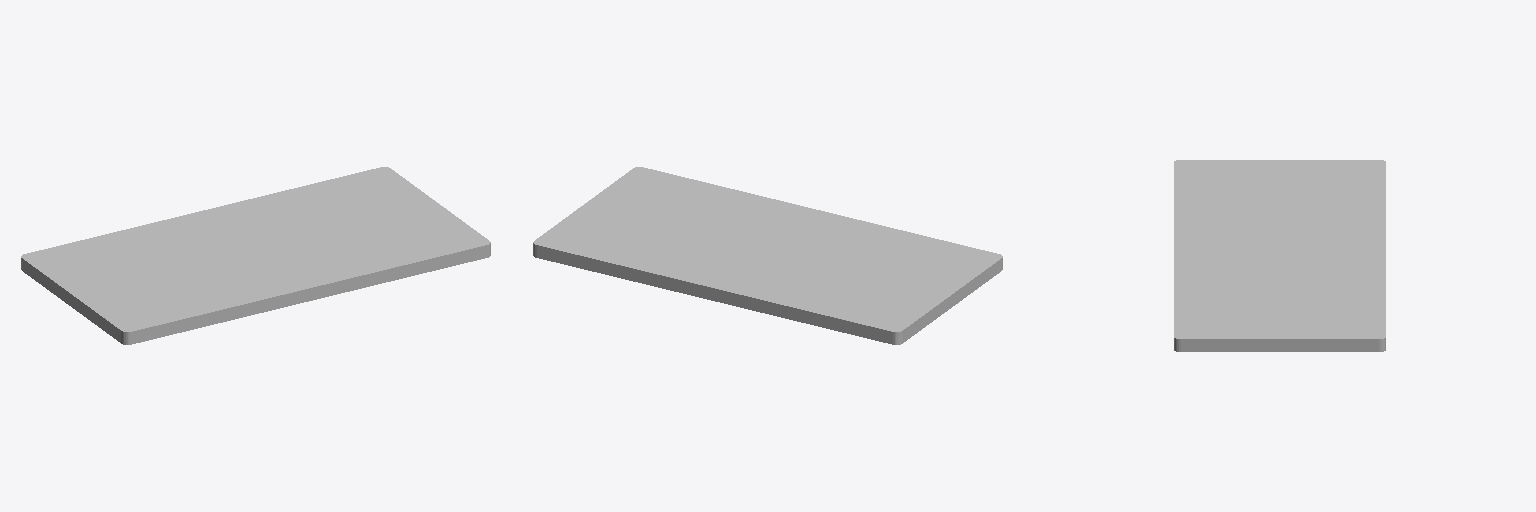
Rendered from plate.obj.
The picture shows the model from 3 angles: view 1: azimuth 30°, elevation 25°; view 2: azimuth 150°, elevation 25°; view 3: azimuth 270°, elevation 25°; orthographic projection.
Parts seen in each view (by area): view 1: plate; view 2: plate; view 3: plate.
Part boxes in pixels (bbox=[...]): plate: bbox=[21, 167, 490, 344]; plate: bbox=[533, 167, 1002, 344]; plate: bbox=[1174, 160, 1385, 351].
Bounding box in the file's own units: 3 × 0.1 × 1.5.